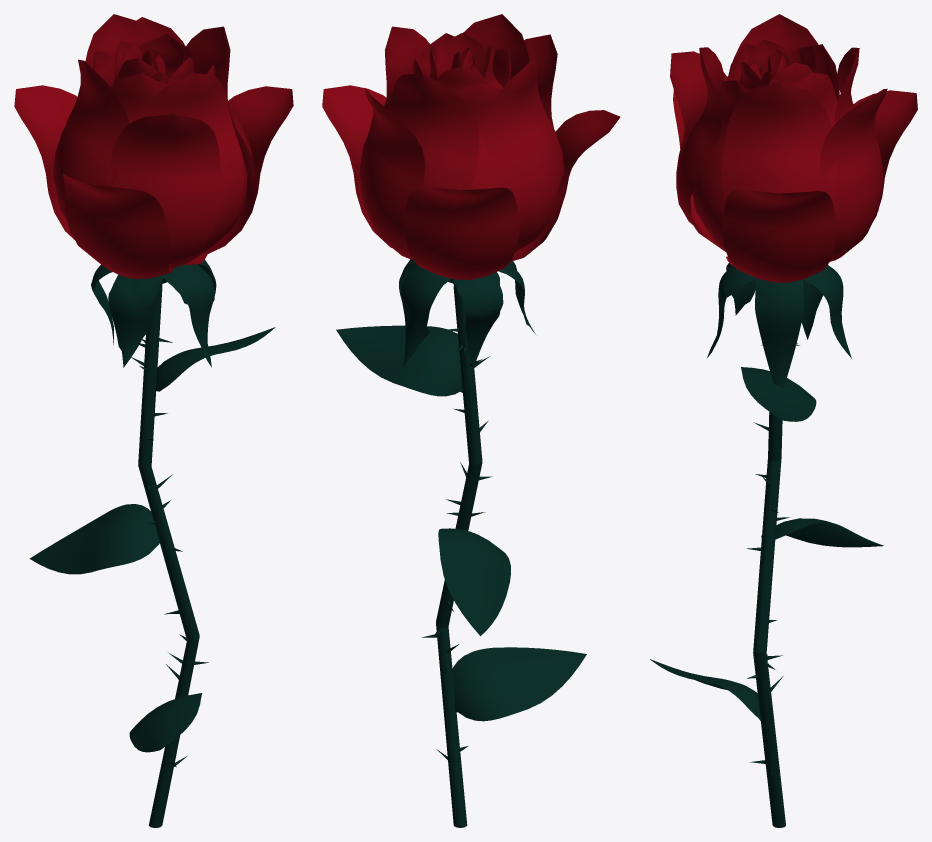
The model's file is rose.FBX.
3 renders of one model, left to right at view 1: azimuth 30°, elevation 25°; view 2: azimuth 150°, elevation 25°; view 3: azimuth 270°, elevation 25°, orthographic.
Parts seen in each view (by area): view 1: Loft010, Loft013, Cone001, Loft032, Loft003, Loft004, Loft034, Loft011, Loft012, Loft001, Loft035, Group002 (+6 smaller); view 2: Loft012, Loft003, Loft035, Loft002, Loft009, Cone001, Loft033, Loft032, Loft034, Loft011, Loft013, Group002 (+7 smaller); view 3: Loft001, Loft011, Loft032, Loft009, Group002, Loft004, Loft008, Loft010, Loft033, Cone001, Loft012, Loft034 (+7 smaller).
Part boxes in pixels (box(x1,y1,x2,y2)): Loft010: box(106, 114, 221, 268); Loft013: box(63, 173, 173, 278); Cone001: box(131, 289, 208, 827); Loft032: box(91, 260, 216, 367); Loft003: box(53, 59, 129, 219); Loft004: box(140, 73, 244, 264); Loft034: box(29, 504, 159, 574); Loft011: box(204, 86, 293, 253); Loft012: box(14, 85, 207, 264); Loft001: box(185, 26, 255, 198); Loft035: box(129, 693, 202, 752); Group002: box(138, 288, 199, 827); Loft012: box(404, 186, 519, 279); Loft003: box(484, 60, 564, 252); Loft035: box(452, 647, 586, 721); Loft002: box(388, 73, 478, 209); Loft009: box(360, 88, 425, 259); Cone001: box(421, 289, 492, 827); Loft033: box(336, 325, 462, 396); Loft032: box(399, 259, 535, 367); Loft034: box(438, 528, 510, 635); Loft011: box(322, 85, 515, 261); Loft013: box(511, 110, 620, 261); Group002: box(436, 288, 481, 827); Loft001: box(722, 82, 836, 201); Loft011: box(722, 189, 836, 282); Loft032: box(707, 263, 851, 388); Loft009: box(820, 88, 887, 261); Group002: box(753, 412, 784, 827); Loft004: box(676, 47, 725, 251); Loft008: box(692, 80, 749, 249); Loft010: box(670, 51, 727, 224); Loft033: box(741, 367, 816, 421); Cone001: box(746, 343, 799, 827); Loft012: box(726, 90, 917, 266); Loft034: box(761, 518, 883, 547).
Bounding box in the file's own units: 189 × 555 × 174.
